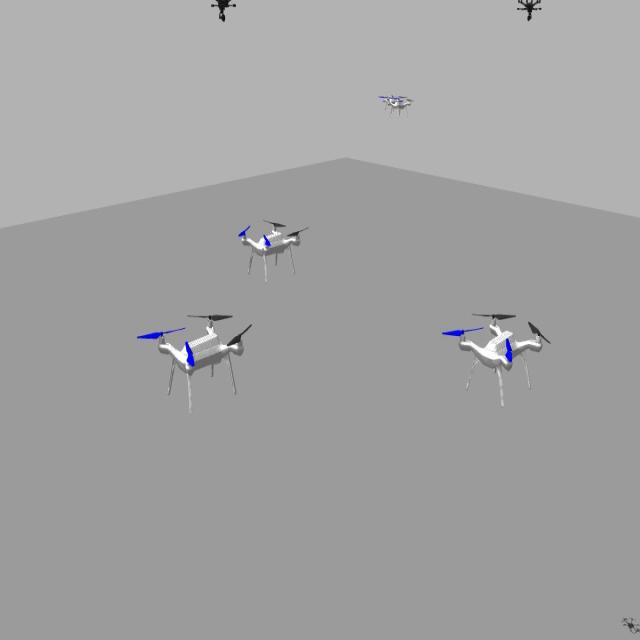Drone: (141, 305, 258, 412)
